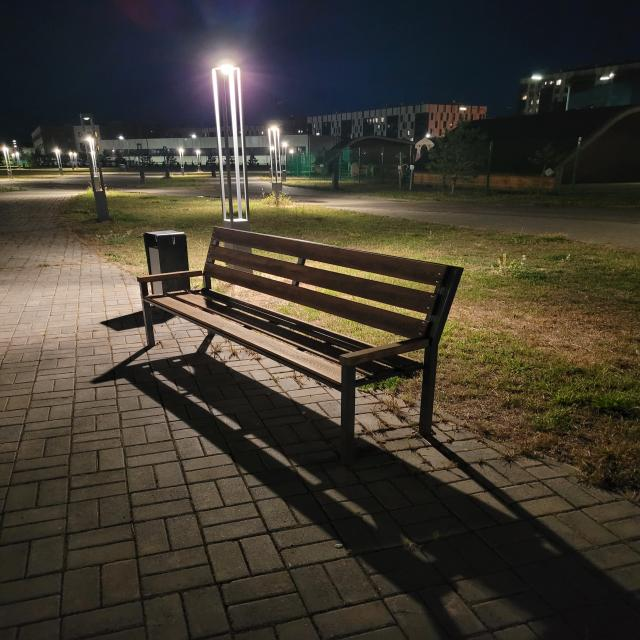Bench: (136, 226, 464, 464)
